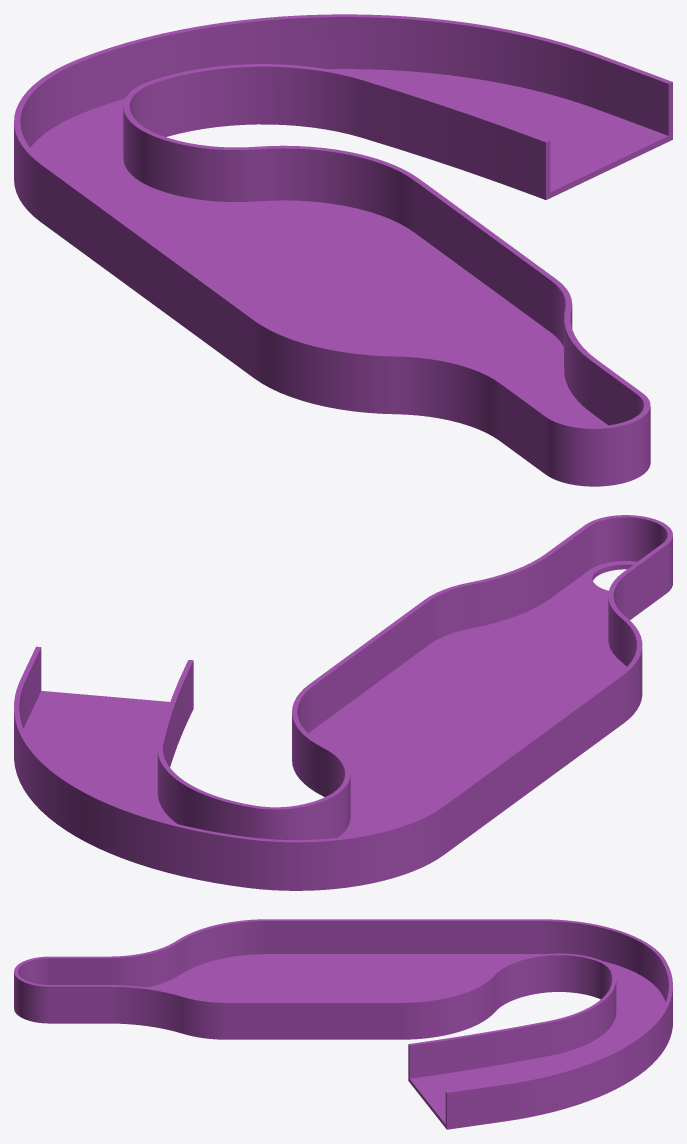
File: Pinball Machine - Fuel Ramp.dae
3 views of the same model, one above another, from view 1: azimuth 30°, elevation 25°; view 2: azimuth 150°, elevation 25°; view 3: azimuth 270°, elevation 25° (orthographic). The views are drawn at different scales.
Parts seen in each view (by area): view 1: ID2; view 2: ID2; view 3: ID2.
Part boxes in pixels (bbox=[...]): ID2: bbox=[14, 14, 672, 486]; ID2: bbox=[14, 515, 672, 890]; ID2: bbox=[14, 919, 672, 1129].
Bounding box in the file's own units: 0.2025 × 0.3246 × 0.02.
